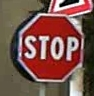stop: (14, 11, 84, 83)
